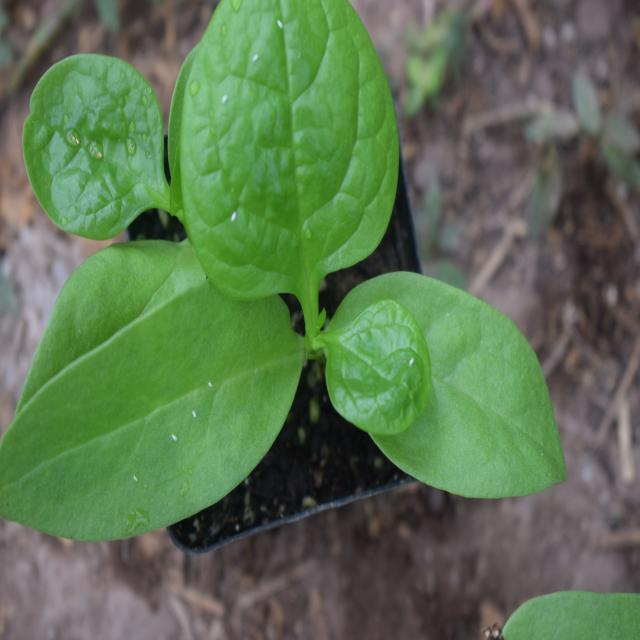Ceylon spinach: (15, 2, 553, 558)
